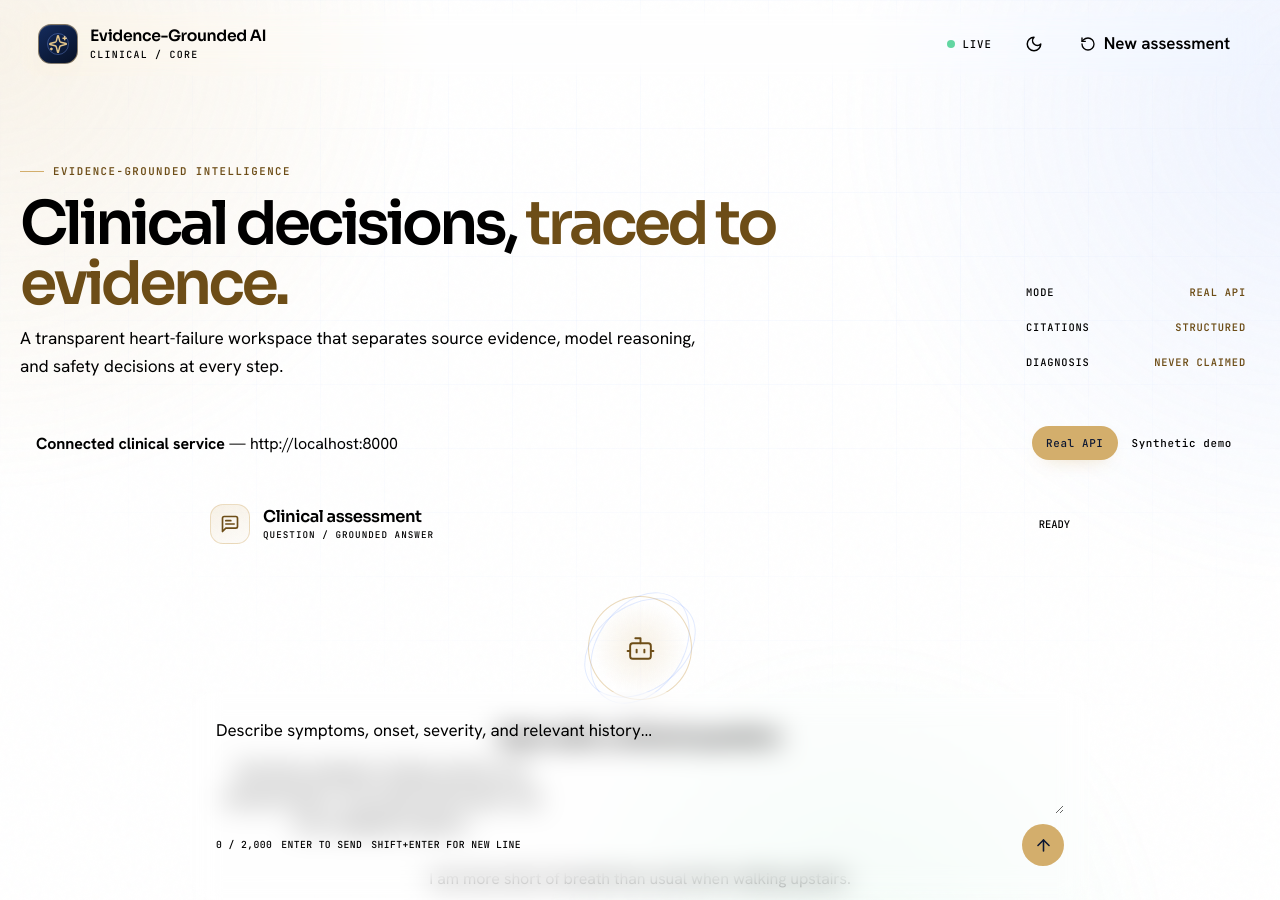
Test: question validation › accepts a question at the 1-character boundary
This screenshot has width=1280, height=900.
Check: the message named "System status: LIVE" is shown, box [946,37,992,51]
In the text box named "Clinical question": {"x": 640, "y": 766} [216,718,1064,814], type "x"
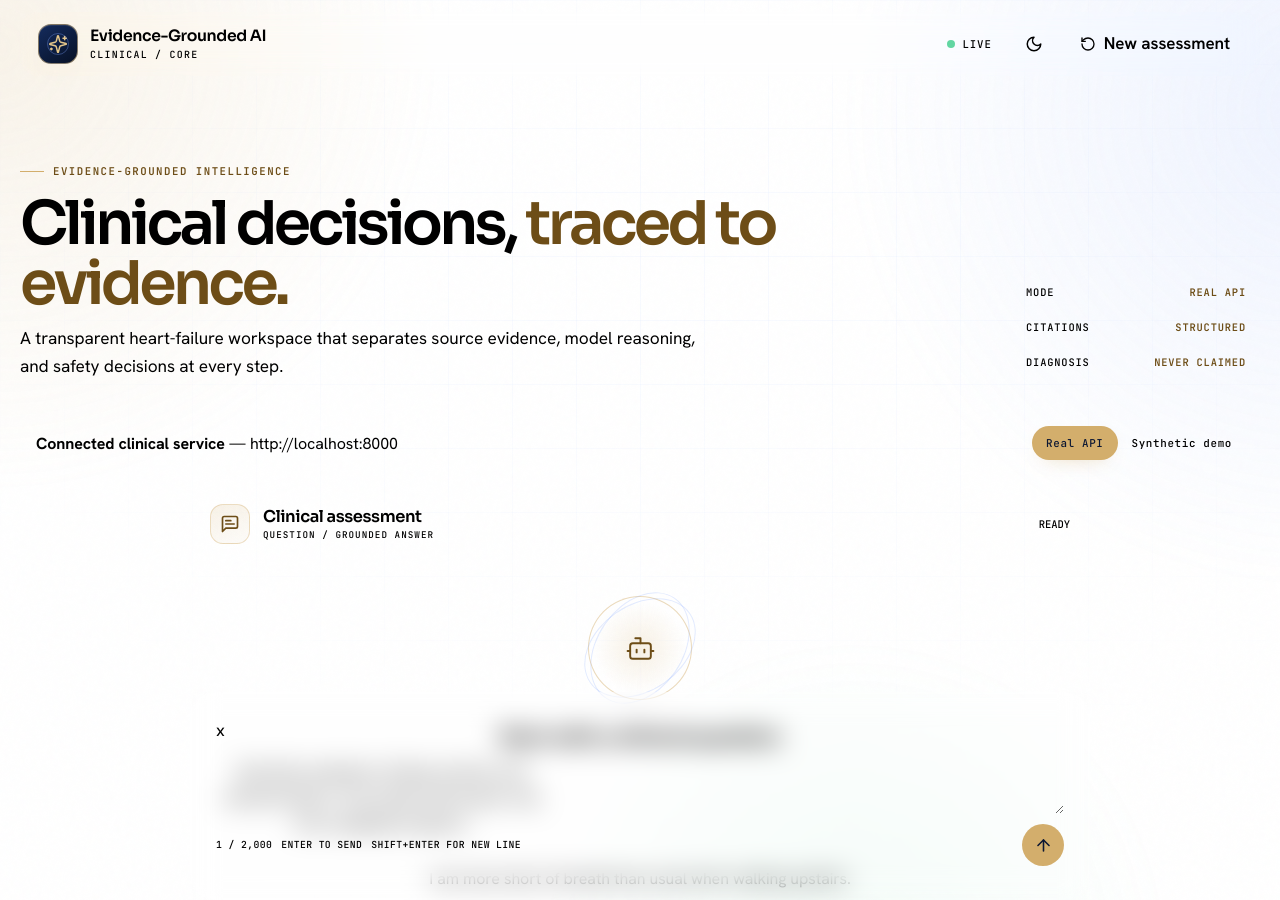
Click the button named "Submit clinical question": {"x": 1043, "y": 845} [1022,824,1064,866]
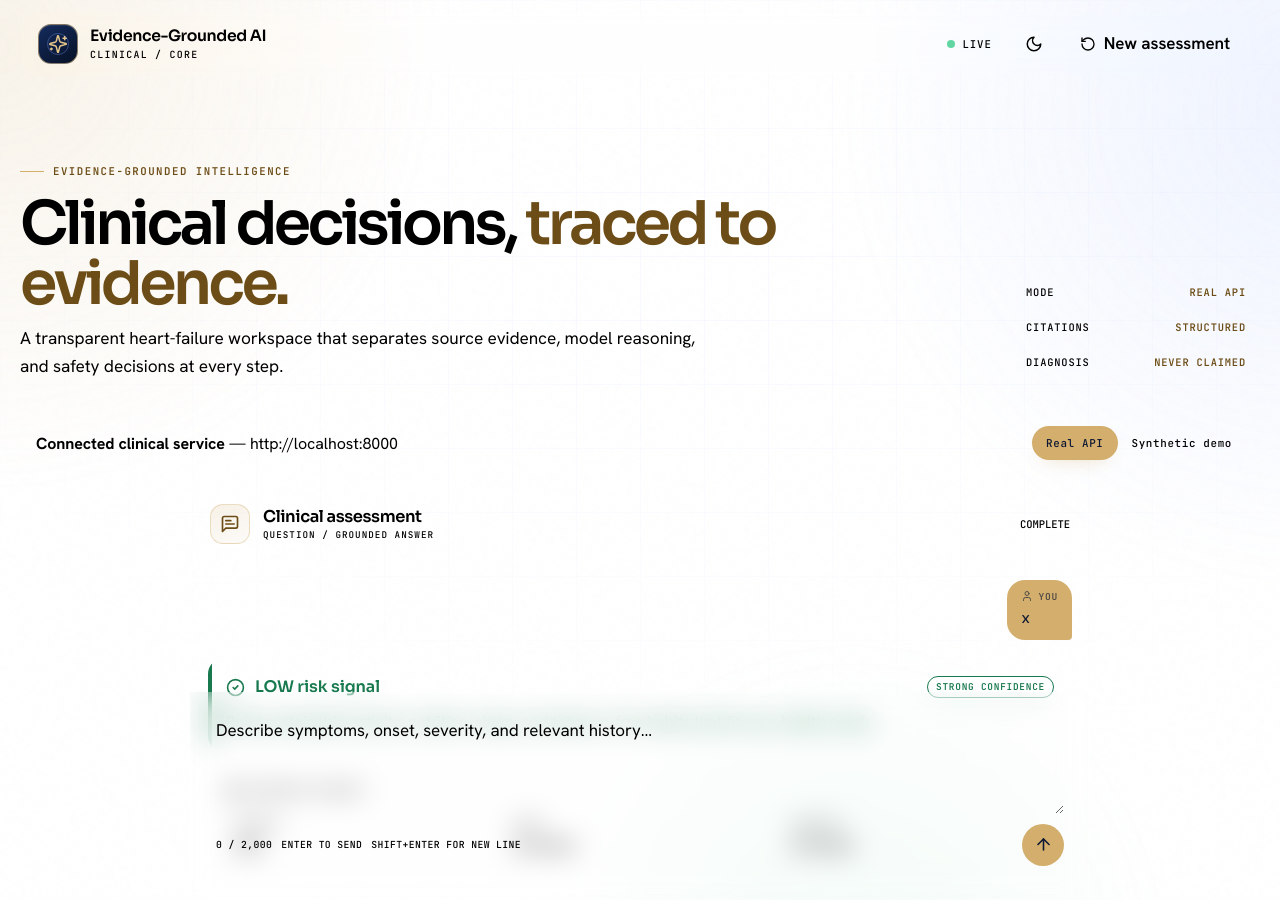
Check: the element named "LOW risk assessment" is shown, box [226,676,1054,732]
